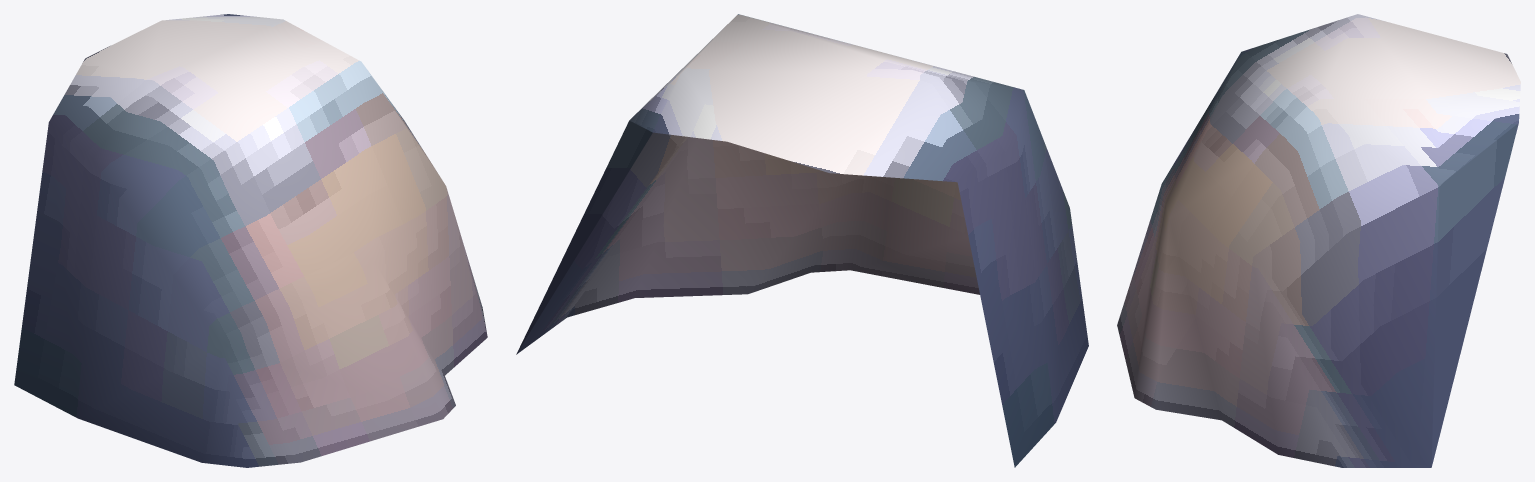
Rendered from fg_stoneA.dae.
3 views of the same model, side by side, from view 1: azimuth 30°, elevation 25°; view 2: azimuth 150°, elevation 25°; view 3: azimuth 270°, elevation 25° (orthographic). The views are drawn at different scales.
Parts seen in each view (by area): view 1: fg_stoneA; view 2: fg_stoneA; view 3: fg_stoneA.
Part boxes in pixels (x1=…): fg_stoneA: x1=14, y1=14, x2=487, y2=467; fg_stoneA: x1=516, y1=14, x2=1088, y2=467; fg_stoneA: x1=1117, y1=14, x2=1520, y2=467.
Size of the model in its own units: 33.03 by 21.84 by 27.04.
1 material, 1 textured.
